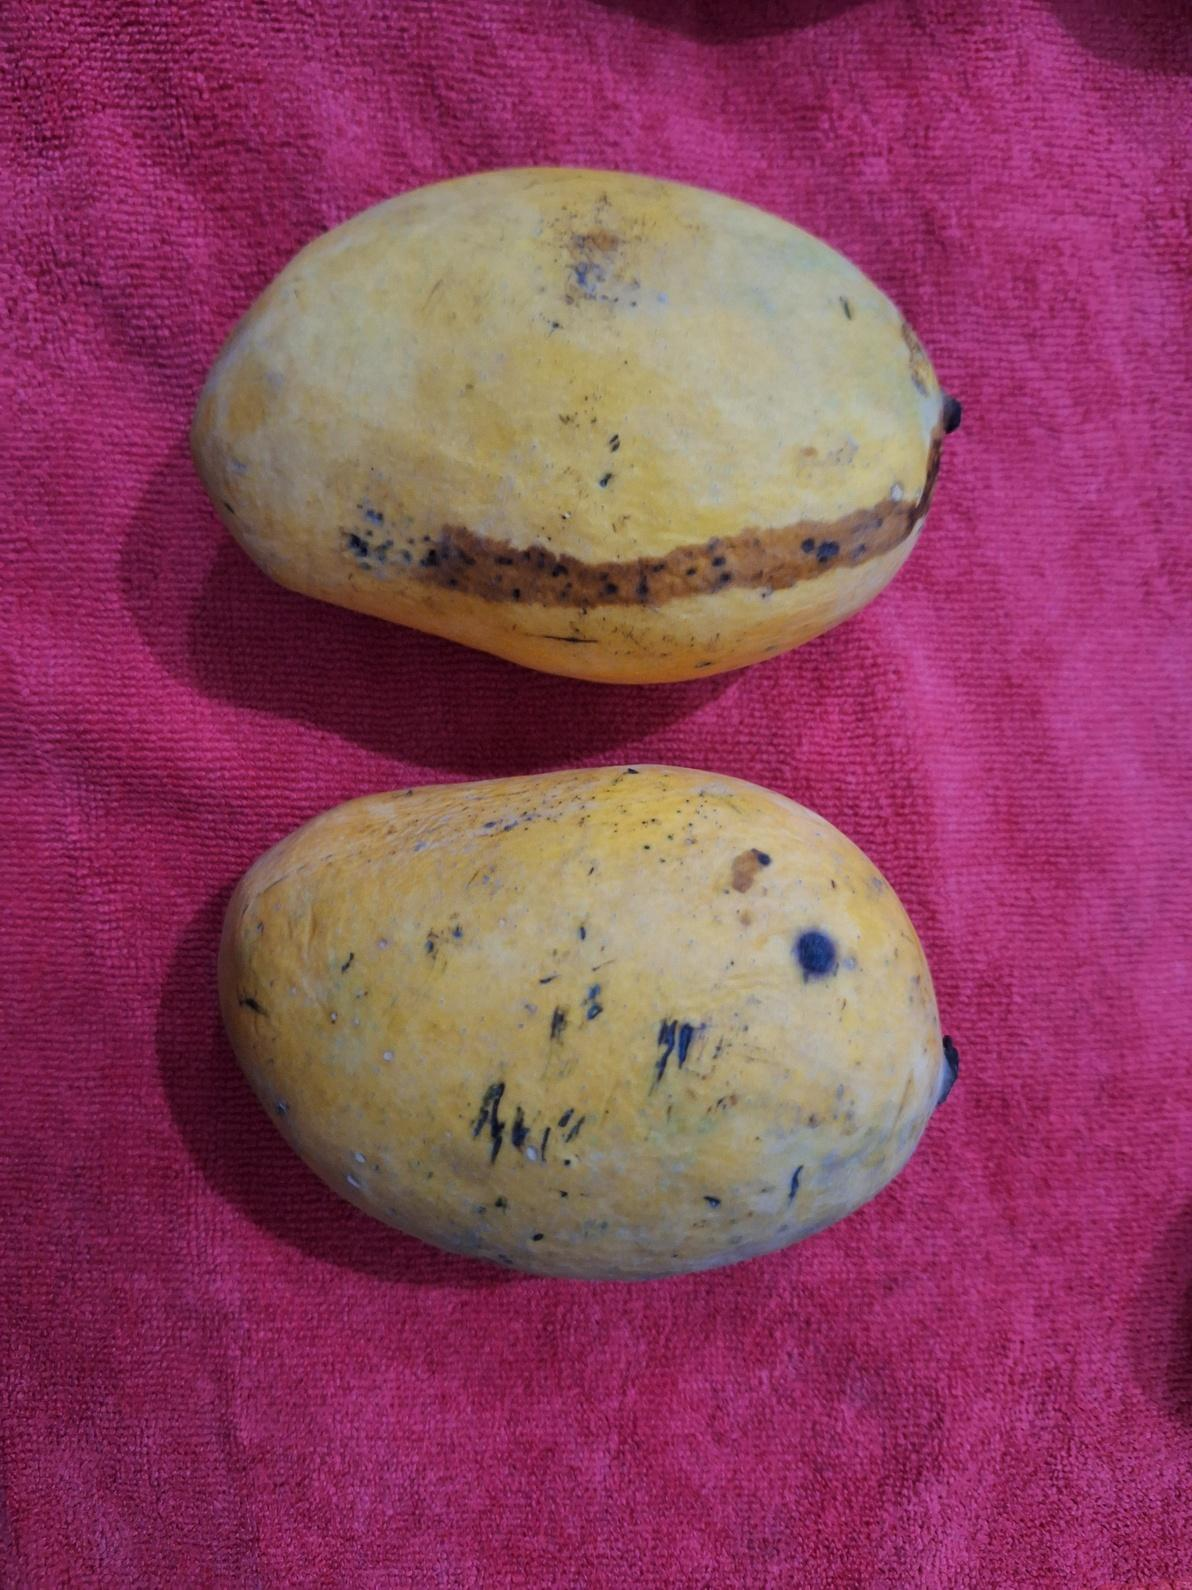mango: (187, 162, 962, 686), (217, 761, 959, 1281)
